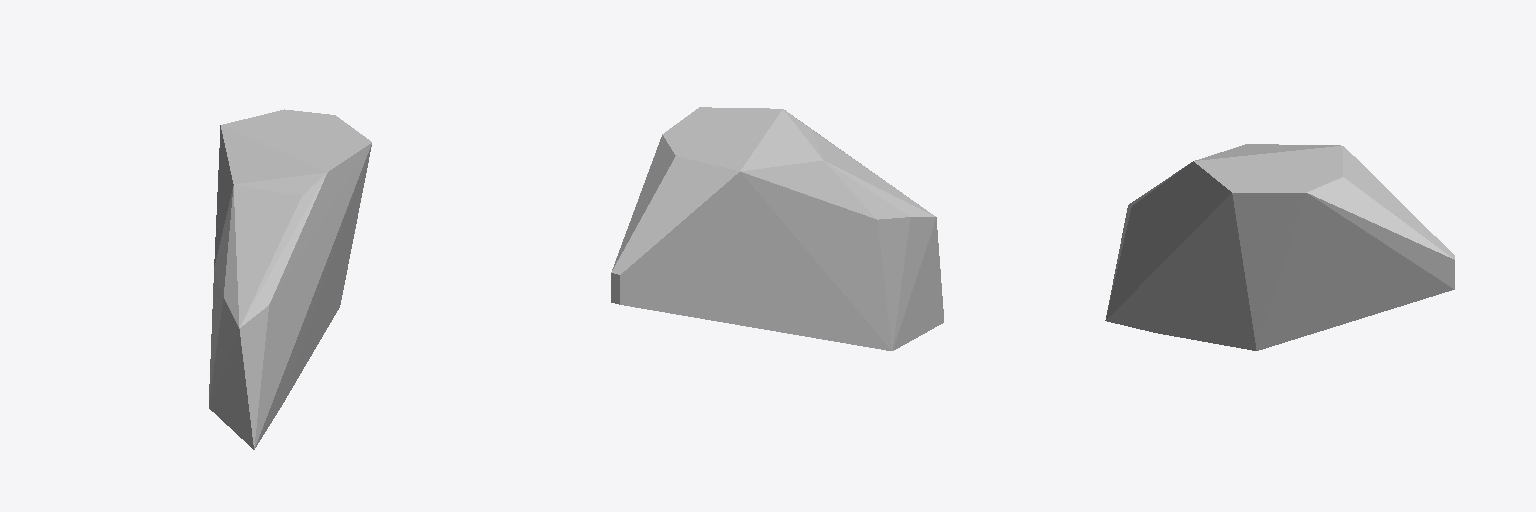
The model's file is raw_model_collision_26.obj.
The picture shows the model from 3 angles: view 1: azimuth 30°, elevation 25°; view 2: azimuth 150°, elevation 25°; view 3: azimuth 270°, elevation 25°; orthographic projection.
Size of the model in its own units: 0.1086 by 0.1218 by 0.1775.